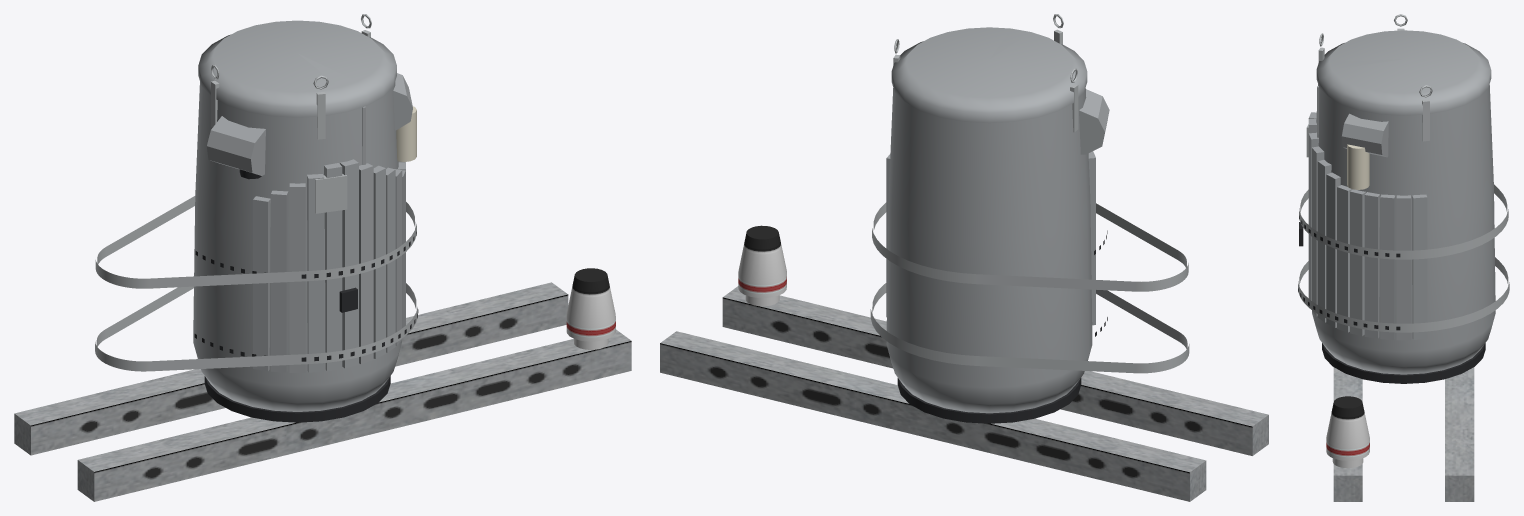
File: pole_fittings.glb
3 renders of one model, left to right at view 1: azimuth 30°, elevation 25°; view 2: azimuth 150°, elevation 25°; view 3: azimuth 270°, elevation 25°, orthographic. The views are drawn at different scales.
Parts seen in each view (by area): view 1: tank, fins, support_left, support_right, lid, band_1, band_2, arm_insulator, hood_a, base_plate, plate_a, hood_b (+1 smaller); view 2: tank, support_right, support_left, lid, band_2, band_1, arm_insulator, base_plate, hood_a, fins; view 3: tank, fins, lid, support_right, arm_insulator, band_2, band_1, support_left, base_plate, hood_b, sleeve_b, lug_3.
Boxes of the visible parts, x1=… form: tank: x1=193, y1=82, x2=401, y2=411; fins: x1=253, y1=159, x2=405, y2=372; support_left: x1=77, y1=329, x2=631, y2=501; support_right: x1=14, y1=282, x2=568, y2=455; lid: x1=198, y1=20, x2=396, y2=117; band_1: x1=95, y1=196, x2=416, y2=288; band_2: x1=95, y1=283, x2=417, y2=371; arm_insulator: x1=566, y1=268, x2=615, y2=349; hood_a: x1=207, y1=116, x2=265, y2=175; base_plate: x1=204, y1=376, x2=390, y2=422; plate_a: x1=315, y1=174, x2=347, y2=213; hood_b: x1=393, y1=73, x2=412, y2=130; tank: x1=886, y1=88, x2=1092, y2=413; support_right: x1=660, y1=331, x2=1206, y2=501; support_left: x1=722, y1=286, x2=1268, y2=455; lid: x1=891, y1=27, x2=1087, y2=123; band_2: x1=870, y1=283, x2=1189, y2=373; band_1: x1=872, y1=202, x2=1188, y2=291; arm_insulator: x1=738, y1=225, x2=786, y2=306; base_plate: x1=897, y1=378, x2=1081, y2=423; hood_a: x1=1079, y1=89, x2=1109, y2=154; fins: x1=886, y1=151, x2=1095, y2=325; tank: x1=1312, y1=84, x2=1495, y2=374; fins: x1=1308, y1=112, x2=1427, y2=340; lid: x1=1316, y1=30, x2=1491, y2=115; support_right: x1=1445, y1=367, x2=1474, y2=501; arm_insulator: x1=1326, y1=396, x2=1369, y2=468; band_2: x1=1298, y1=257, x2=1509, y2=332; band_1: x1=1299, y1=184, x2=1508, y2=259; support_left: x1=1333, y1=367, x2=1362, y2=501; base_plate: x1=1322, y1=343, x2=1485, y2=383; hood_b: x1=1341, y1=113, x2=1388, y2=157; sleeve_b: x1=1347, y1=144, x2=1369, y2=189; lug_3: x1=1419, y1=85, x2=1432, y2=141.
Size of the model in its own units: 1.5 by 1.01 by 0.5844.
Materials: 6 (2 with a texture image).
